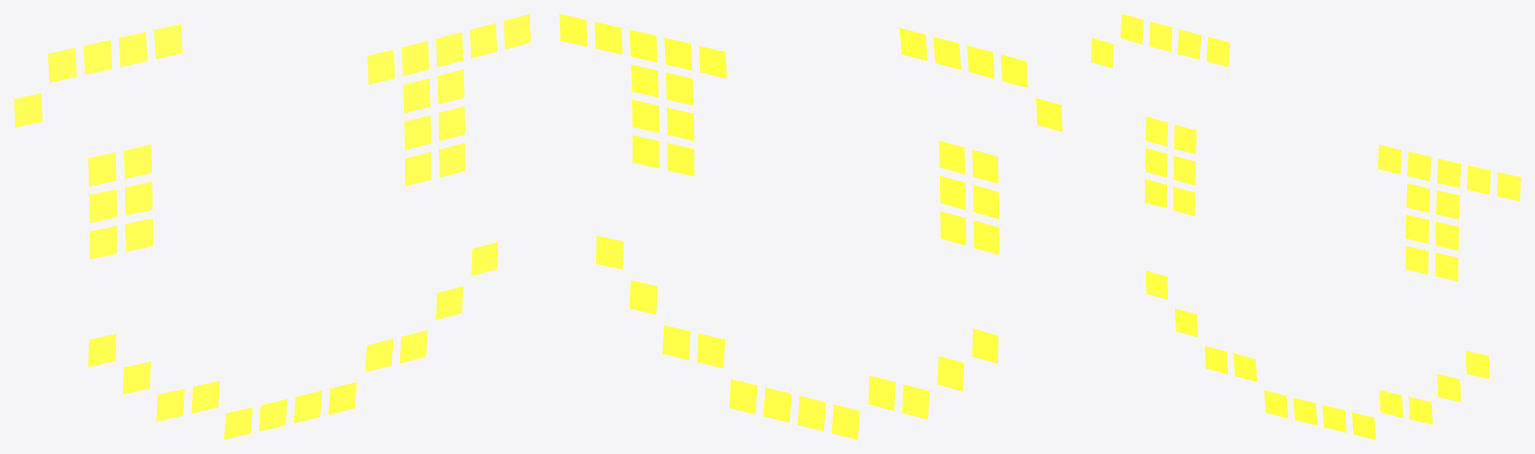
The model's file is expressao_alegre.glb.
3 renders of one model, left to right at view 1: azimuth 30°, elevation 25°; view 2: azimuth 150°, elevation 25°; view 3: azimuth 330°, elevation 25°, orthographic. The views are drawn at different scales.
Visible parts, largest first — view 1: Pixels ALEGRE; view 2: Pixels ALEGRE; view 3: Pixels ALEGRE.
Boxes of the visible parts, box(x1,y1,x2,y2) form: Pixels ALEGRE: box(14, 14, 530, 439); Pixels ALEGRE: box(559, 14, 1062, 439); Pixels ALEGRE: box(1091, 14, 1520, 439).
Size of the model in its own units: 0.2245 by 0.1789 by 0.0085.
